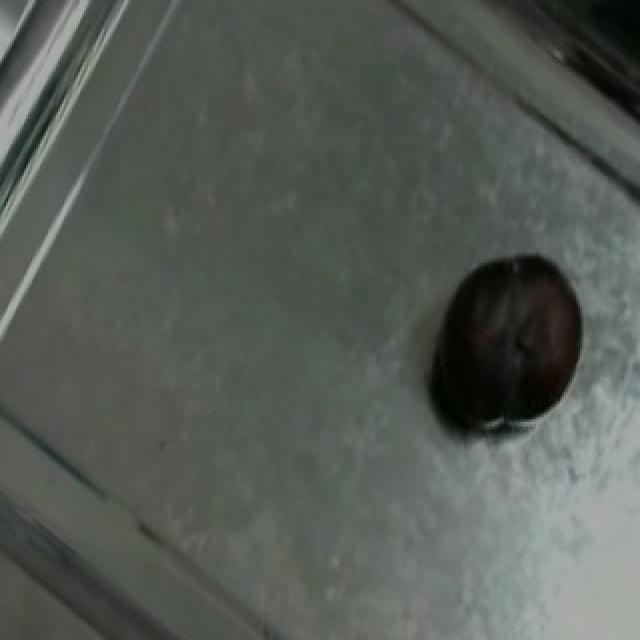Fruit: (418, 234, 614, 462)
